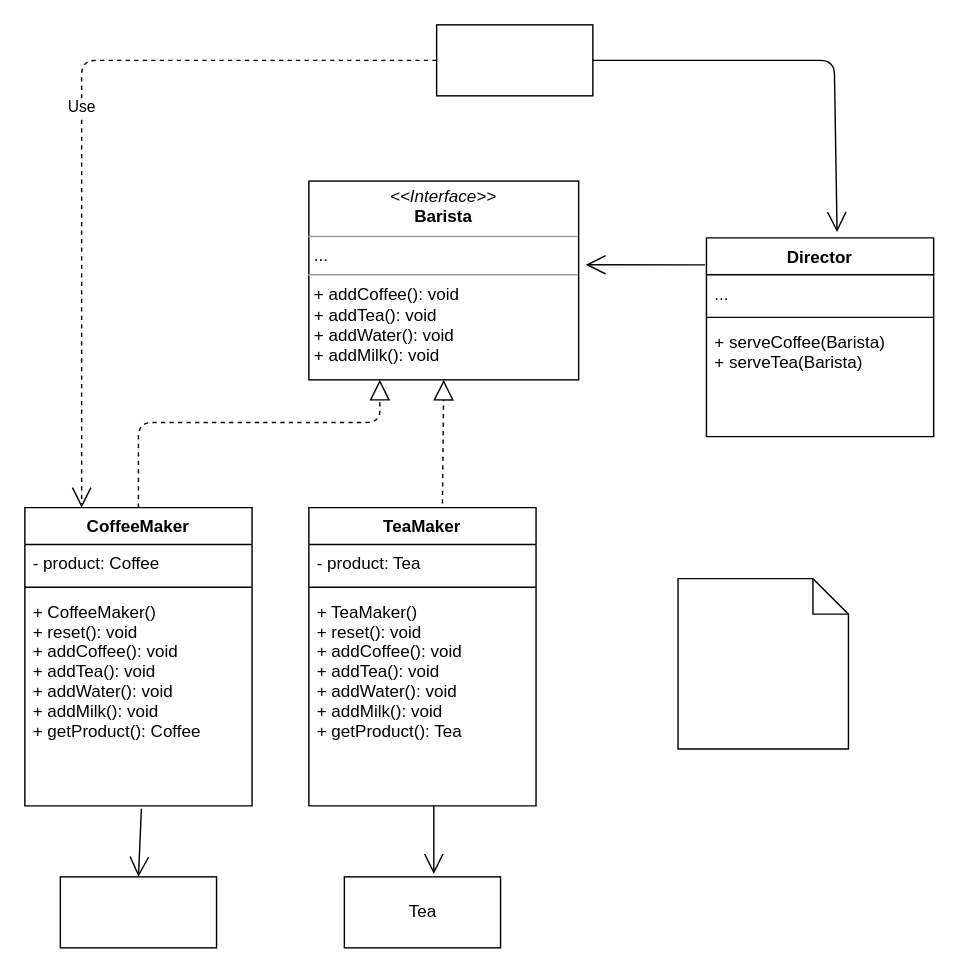
Some shapes in this 959 by 973 pixel diagram are drawn without their labels. Here are the shapes that lost their labels. From the top down, the centre of each, then its label:
At point (514, 59): "Client".
At point (762, 663): "+reset() product = new Coffee".
At point (138, 911): "Coffee".
